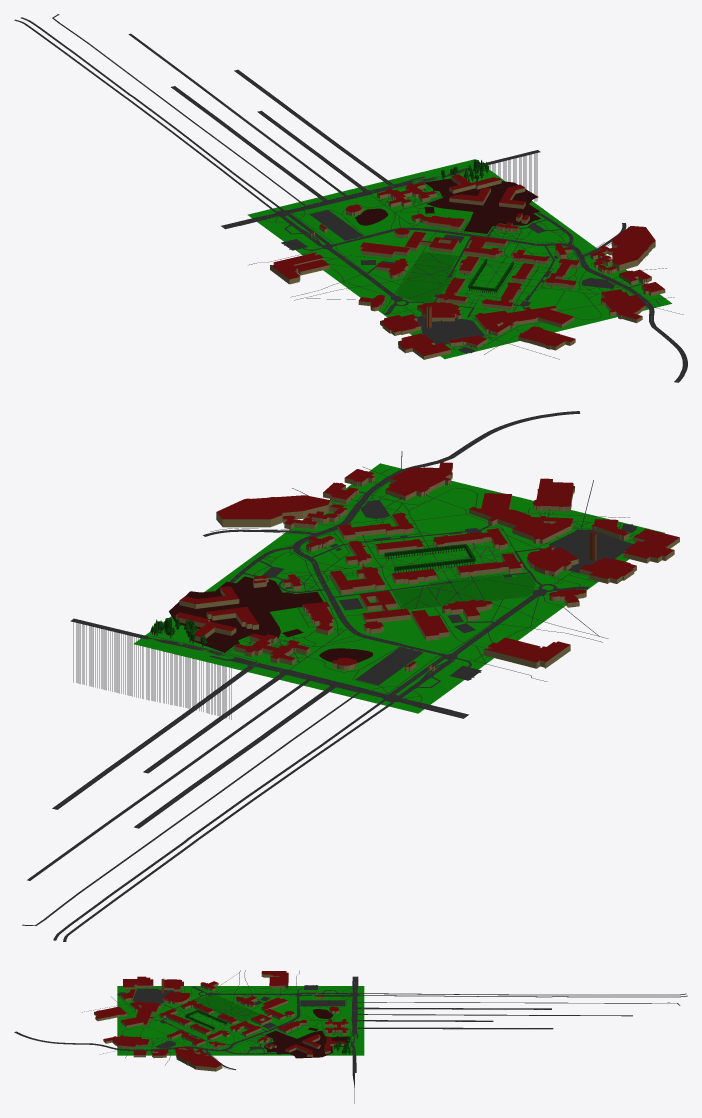
File: map.obj
3 renders of one model, top to bottom at view 1: azimuth 30°, elevation 25°; view 2: azimuth 150°, elevation 25°; view 3: azimuth 270°, elevation 25°, orthographic. The views are drawn at different scales.
Parts seen in each view (by area): view 1: SurfaceArea1535, SurfaceArea1534, SurfaceArea1537, SurfaceArea1536, SurfaceArea North Campus Housing, SurfaceArea1538, SurfaceArea Denny Yard, Road 17th Avenue Northeast, Building Padelford Parking Garage, Road East Stevens Way Northeast, SurfaceArea1539, RoadArea Red Square (+17 smaller); view 2: SurfaceArea1535, SurfaceArea1534, Bridge Northeast 45th Street, SurfaceArea1537, SurfaceArea1536, SurfaceArea1538, SurfaceArea North Campus Housing, SurfaceArea Denny Yard, Building Padelford Parking Garage, Road 17th Avenue Northeast, SurfaceArea1539, Road East Stevens Way Northeast (+20 smaller); view 3: SurfaceArea1535, SurfaceArea1534, SurfaceArea1537, SurfaceArea1538, SurfaceArea1536, SurfaceArea North Campus Housing, Road 17th Avenue Northeast, SurfaceArea Denny Yard, Building Padelford Parking Garage, SurfaceArea1539, Road East Stevens Way Northeast, RoadArea Red Square (+17 smaller).
Boxes of the visible parts, bbox=[...] form: SurfaceArea1535: bbox=[280, 204, 504, 297]; SurfaceArea1534: bbox=[368, 264, 586, 359]; SurfaceArea1537: bbox=[505, 243, 671, 324]; SurfaceArea1536: bbox=[247, 180, 421, 238]; SurfaceArea North Campus Housing: bbox=[424, 178, 541, 233]; SurfaceArea1538: bbox=[423, 201, 589, 263]; SurfaceArea Denny Yard: bbox=[396, 252, 458, 302]; Road 17th Avenue Northeast: bbox=[14, 17, 283, 212]; Building Padelford Parking Garage: bbox=[611, 226, 655, 271]; Road East Stevens Way Northeast: bbox=[331, 227, 687, 382]; SurfaceArea1539: bbox=[390, 159, 505, 203]; RoadArea Red Square: bbox=[416, 316, 484, 344]; SurfaceArea1535: bbox=[282, 564, 561, 683]; SurfaceArea1534: bbox=[384, 489, 664, 608]; Bridge Northeast 45th Street: bbox=[71, 621, 231, 719]; SurfaceArea1537: bbox=[277, 463, 486, 564]; SurfaceArea1536: bbox=[240, 640, 459, 713]; SurfaceArea1538: bbox=[205, 538, 382, 639]; SurfaceArea North Campus Housing: bbox=[169, 576, 323, 652]; SurfaceArea Denny Yard: bbox=[393, 574, 535, 609]; Building Padelford Parking Garage: bbox=[216, 495, 330, 527]; Road 17th Avenue Northeast: bbox=[53, 699, 393, 941]; SurfaceArea1539: bbox=[133, 616, 280, 669]; Road East Stevens Way Northeast: bbox=[294, 411, 580, 656]; SurfaceArea1535: bbox=[220, 986, 323, 1029]; SurfaceArea1534: bbox=[117, 986, 220, 1029]; SurfaceArea1537: bbox=[117, 1029, 220, 1055]; SurfaceArea1538: bbox=[220, 1029, 323, 1055]; SurfaceArea1536: bbox=[323, 986, 364, 1029]; SurfaceArea North Campus Housing: bbox=[264, 1030, 350, 1058]; Road 17th Avenue Northeast: bbox=[358, 993, 687, 997]; SurfaceArea Denny Yard: bbox=[194, 995, 260, 1021]; Building Padelford Parking Garage: bbox=[175, 1049, 222, 1071]; SurfaceArea1539: bbox=[323, 1029, 364, 1055]; Road East Stevens Way Northeast: bbox=[14, 997, 300, 1051]; RoadArea Red Square: bbox=[133, 988, 179, 1003].
Bounding box in the file's own units: 710 × 142 × 1965.
